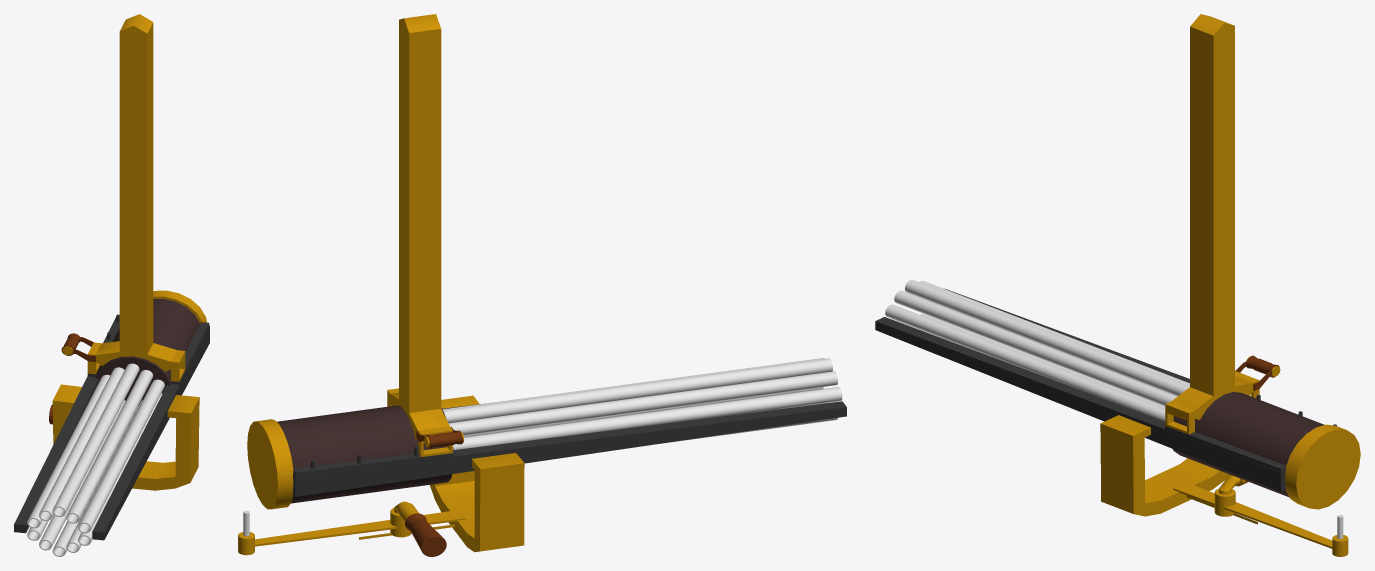
Rendered from TurretBarrel.fbx.
3 views of the same model, side by side, from view 1: azimuth 30°, elevation 25°; view 2: azimuth 150°, elevation 25°; view 3: azimuth 270°, elevation 25° (orthographic). The views are drawn at different scales.
Parts seen in each view (by area): view 1: polySurface207; view 2: polySurface207; view 3: polySurface207.
Boxes of the visible parts, <box> form: polySurface207: <box>14,14,209,556</box>; polySurface207: <box>238,14,846,556</box>; polySurface207: <box>875,14,1360,556</box>.
Bounding box in the file's own units: 3.22 × 3.86 × 3.44.
